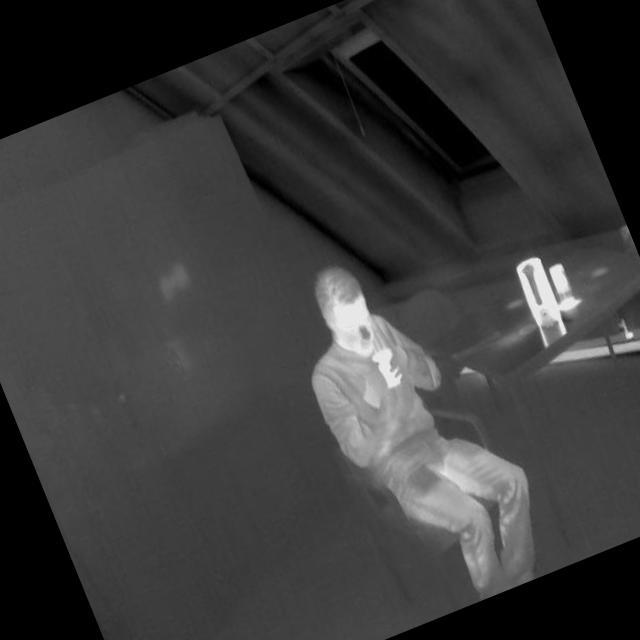person: (270, 224, 568, 629)
